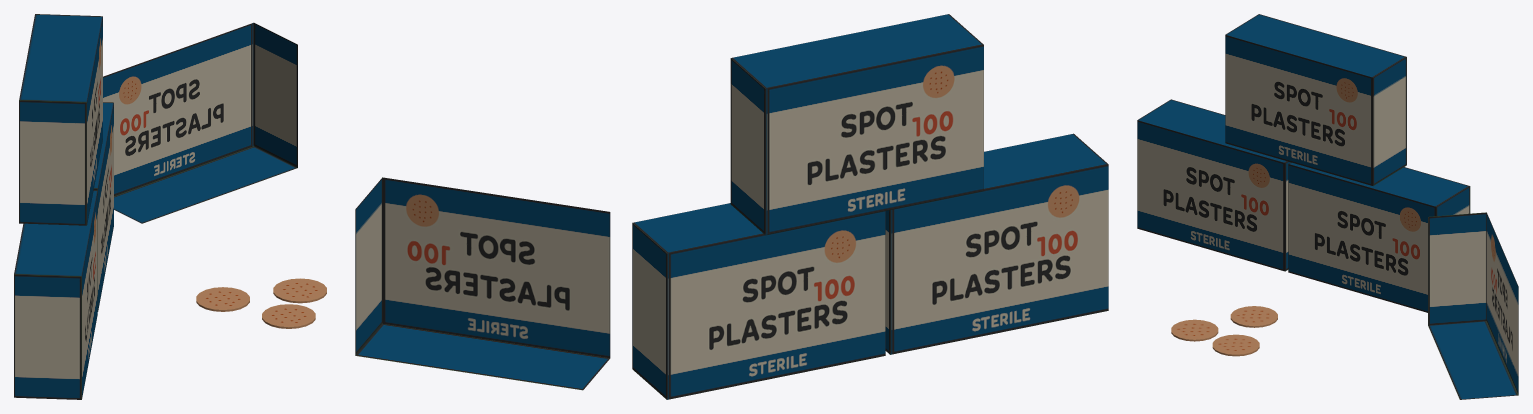
Rendered from plasters.glb.
3 renders of one model, left to right at view 1: azimuth 30°, elevation 25°; view 2: azimuth 150°, elevation 25°; view 3: azimuth 270°, elevation 25°, orthographic. The views are drawn at different scales.
Parts seen in each view (by area): view 1: Spot_plasters_box002, Spot_plasters_box005, Spot_plasters_box006, Spot_plasters_box007, spot1, spot3, spot2; view 2: Spot_plasters_box002, Spot_plasters_box005, Spot_plasters_box007, Spot_plasters_box006; view 3: Spot_plasters_box005, Spot_plasters_box006, Spot_plasters_box007, Spot_plasters_box002, spot1, spot2, spot3.
Boxes of the visible parts, left/top/right/bottom form: Spot_plasters_box002: left=103, top=22, right=297, bottom=223; Spot_plasters_box005: left=19, top=14, right=102, bottom=225; Spot_plasters_box006: left=14, top=190, right=97, bottom=399; Spot_plasters_box007: left=93, top=102, right=113, bottom=311; spot1: left=196, top=287, right=249, bottom=311; spot3: left=273, top=278, right=326, bottom=303; spot2: left=262, top=304, right=315, bottom=328; Spot_plasters_box002: left=355, top=177, right=610, bottom=390; Spot_plasters_box005: left=730, top=14, right=983, bottom=234; Spot_plasters_box007: left=632, top=203, right=885, bottom=399; Spot_plasters_box006: left=885, top=133, right=1108, bottom=354; Spot_plasters_box005: left=1225, top=14, right=1406, bottom=185; Spot_plasters_box006: left=1137, top=99, right=1290, bottom=271; Spot_plasters_box007: left=1288, top=162, right=1470, bottom=312; Spot_plasters_box002: left=1428, top=212, right=1518, bottom=399; spot1: left=1230, top=306, right=1277, bottom=327; spot2: left=1171, top=319, right=1218, bottom=341; spot3: left=1212, top=334, right=1259, bottom=356.
Bounding box in the file's own units: 0.38 × 0.2005 × 0.3189.
Materials: 2 (2 with a texture image).
